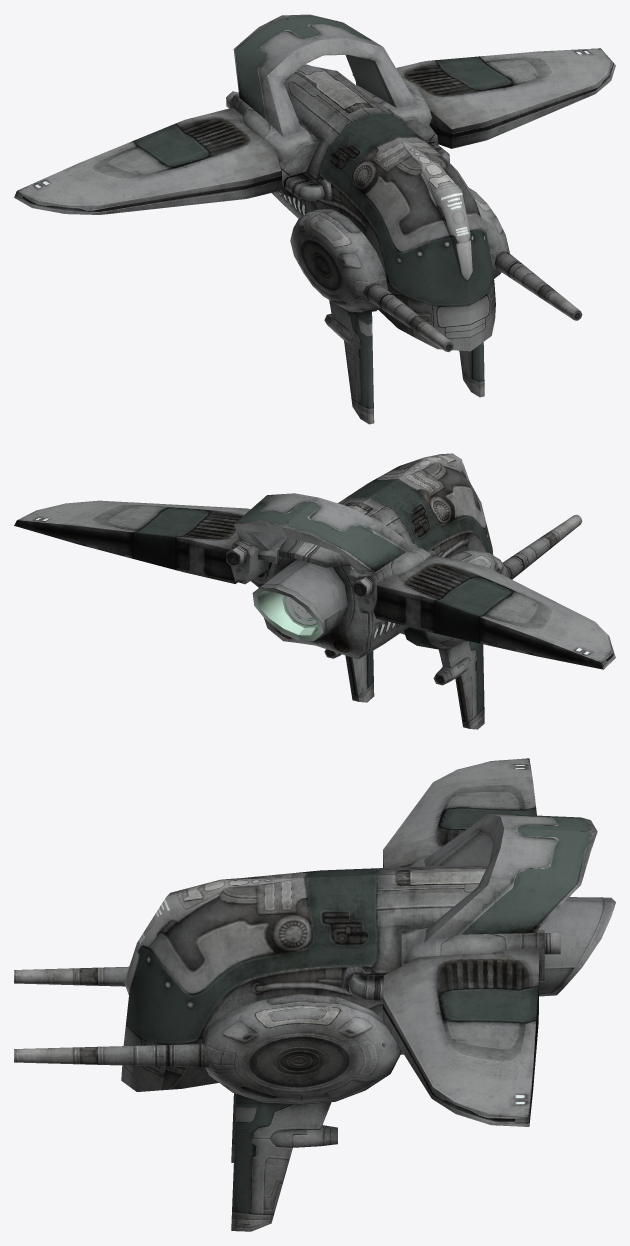
The model's file is 32465_lite.glb.
The picture shows the model from 3 angles, top to bottom: view 1: azimuth 30°, elevation 25°; view 2: azimuth 150°, elevation 25°; view 3: azimuth 270°, elevation 25°; orthographic projection. The views are drawn at different scales.
Parts seen in each view (by area): view 1: ship; view 2: ship; view 3: ship.
Part boxes in pixels (x1=…): ship: x1=14, y1=14, x2=615, y2=424; ship: x1=14, y1=453, x2=615, y2=729; ship: x1=14, y1=758, x2=615, y2=1231.
Size of the model in its own units: 0.0863 by 0.0407 by 0.0605.
Materials: 1 (1 with a texture image).
